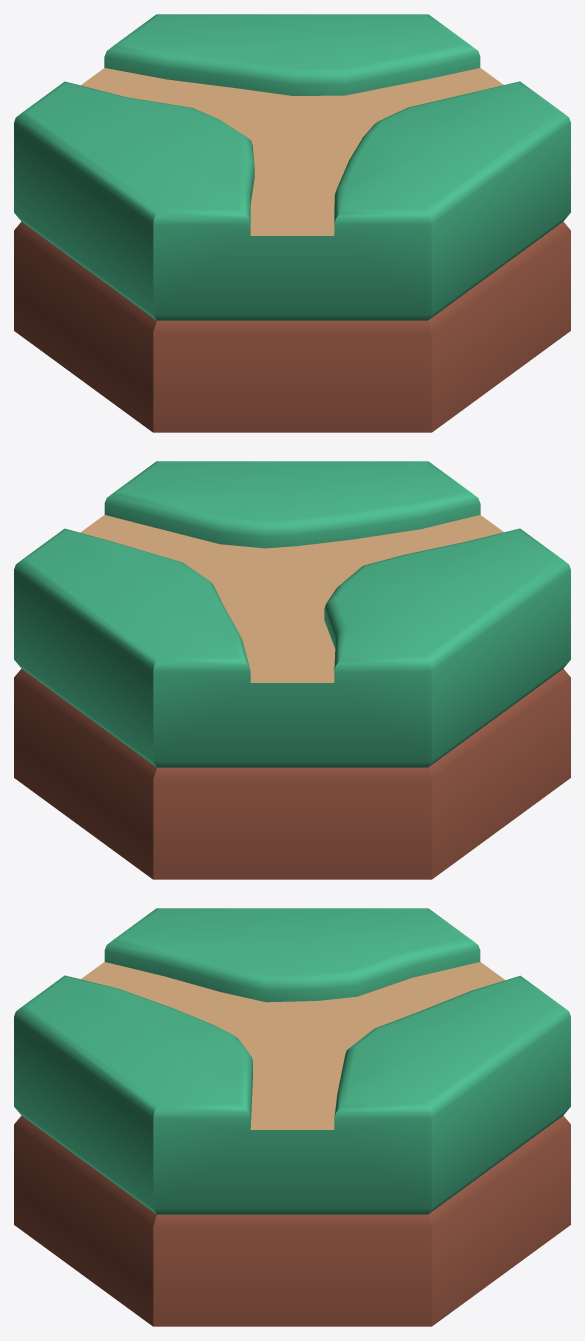
The model's file is kaykit-hex-forest-roadg-detail.glb.
3 renders of one model, top to bottom at view 1: azimuth 30°, elevation 25°; view 2: azimuth 150°, elevation 25°; view 3: azimuth 270°, elevation 25°, orthographic.
Parts seen in each view (by area): view 1: hex_forest_roadG_detail; view 2: hex_forest_roadG_detail; view 3: hex_forest_roadG_detail.
Boxes of the visible parts, <box> form: hex_forest_roadG_detail: <box>14,14,570,432</box>; hex_forest_roadG_detail: <box>14,461,570,879</box>; hex_forest_roadG_detail: <box>14,908,570,1326</box>.
Bounding box in the file's own units: 2 × 1 × 2.31.
